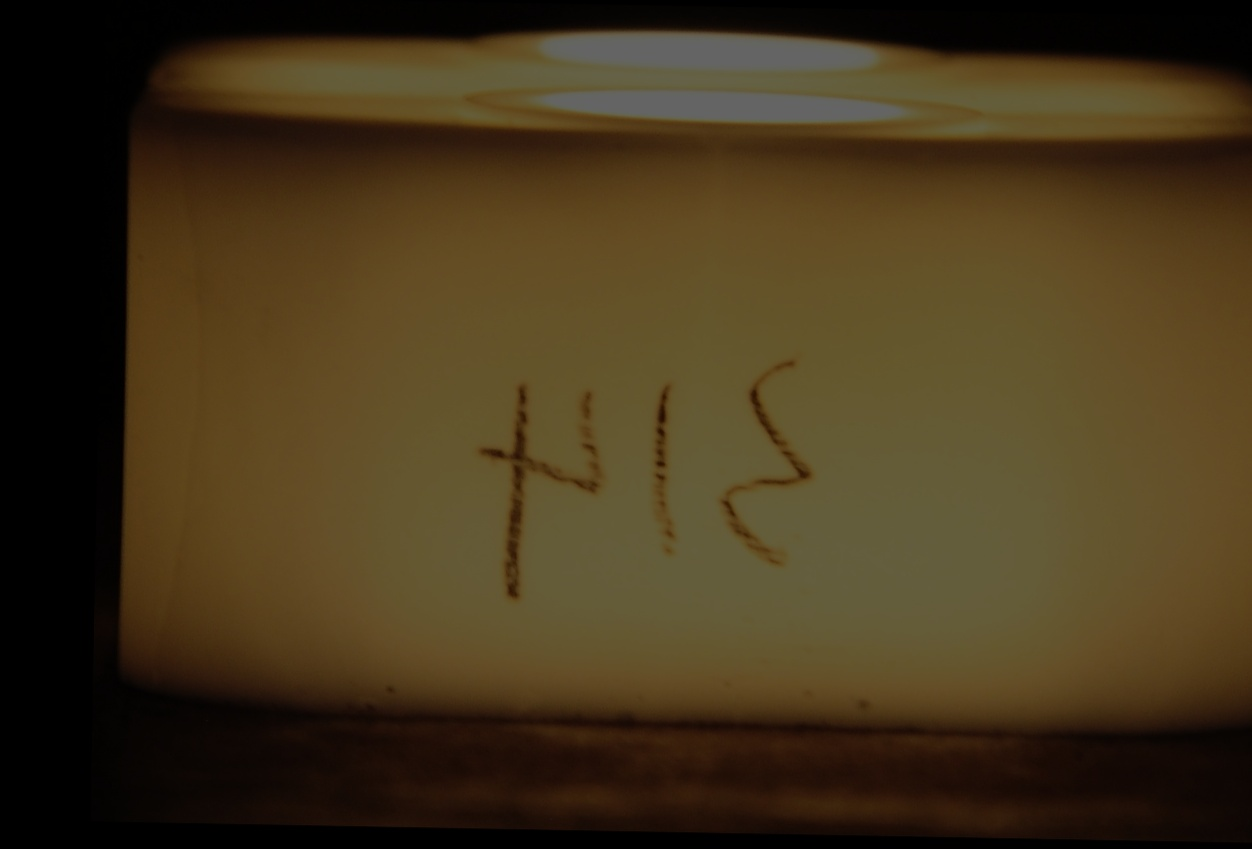flaw: (140, 111, 213, 682)
